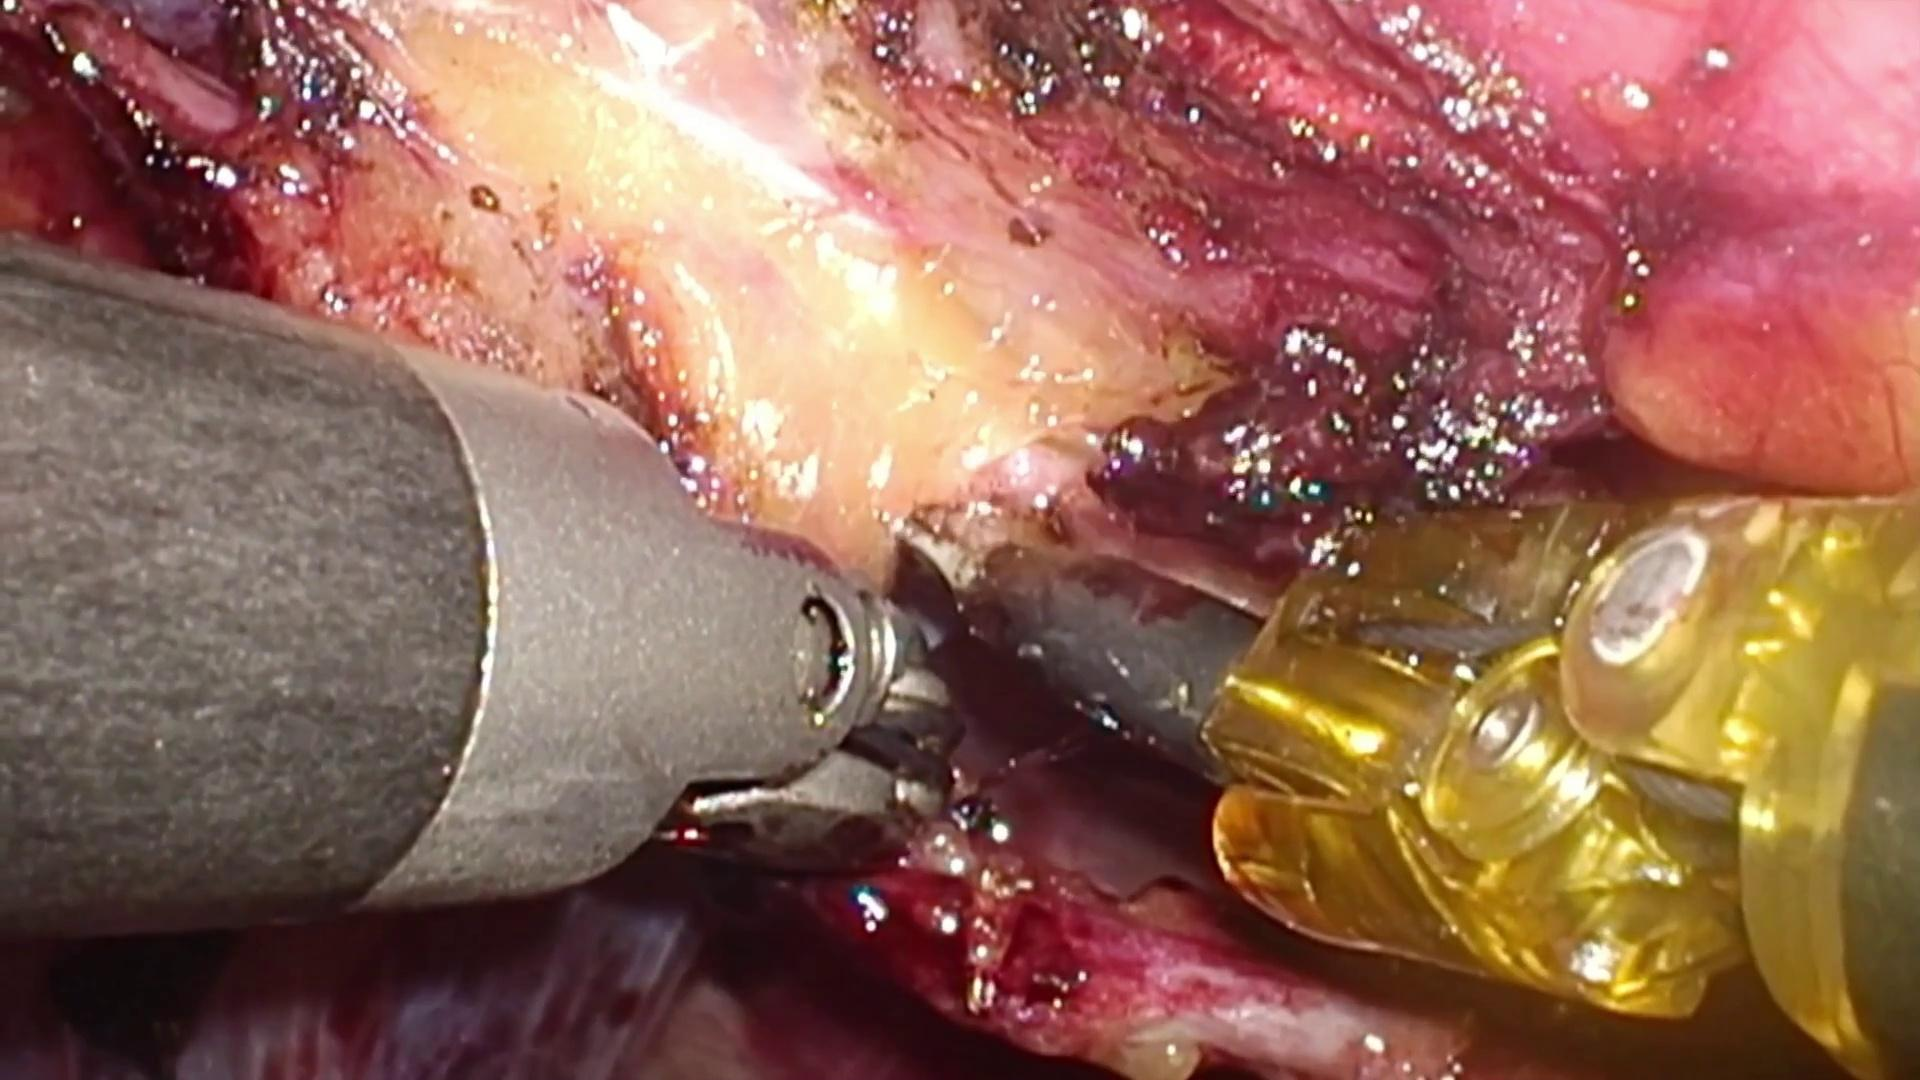Cautery_Spatula: (887, 495, 1270, 774)
